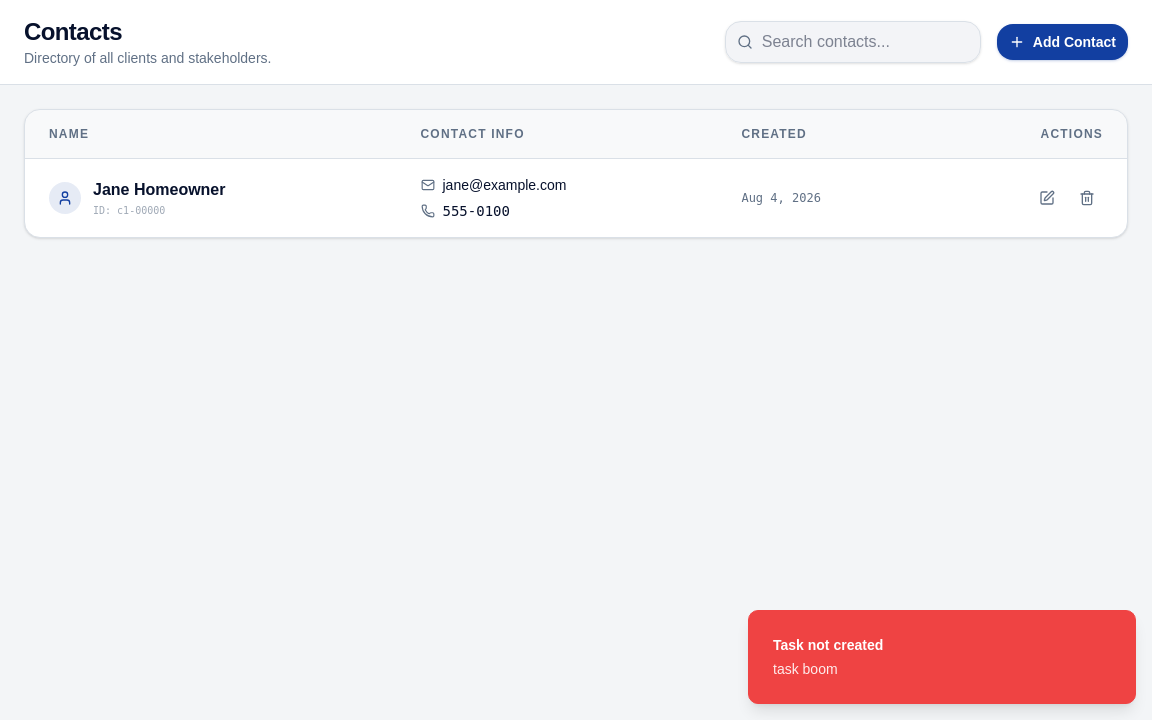
save forms never fail silently › contact form shows a destructive toast and stays open when create fails
Step 1. Click the button with test id "add-contact" → (1062, 42), box x1=997 y1=24 x2=1128 y2=60
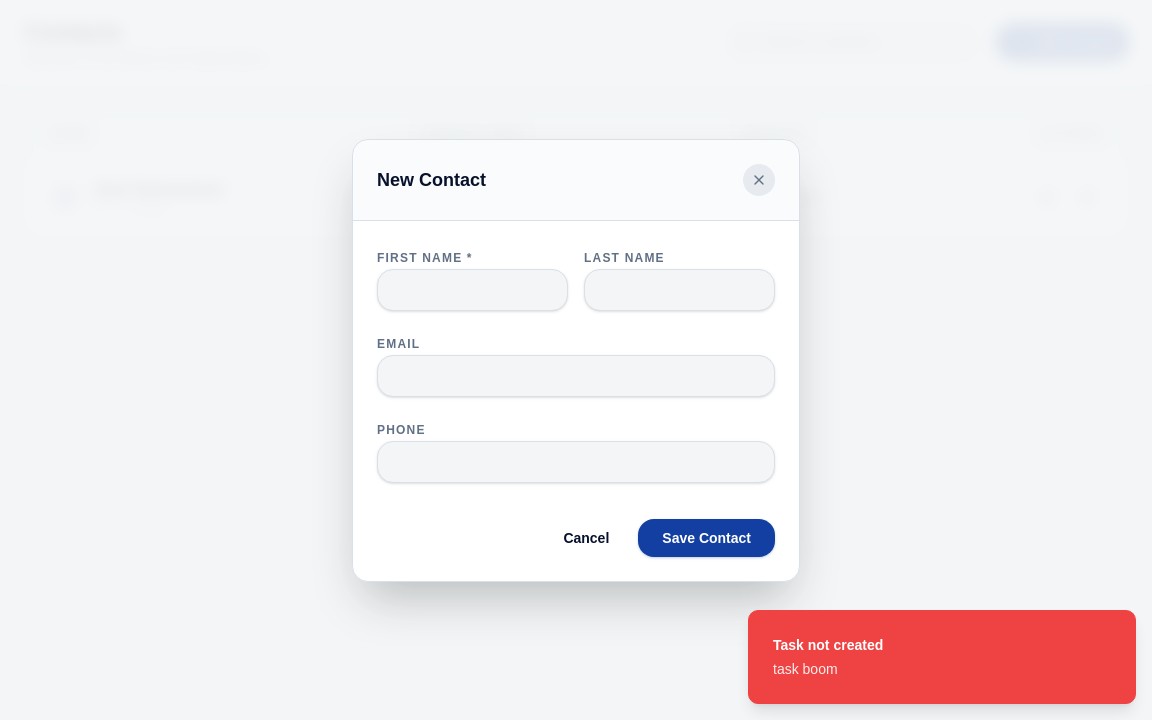
Check: the element with class "inset-0" is shown
Step 2. Type "Jane" into the field below "First Name *" → (472, 290), box x1=377 y1=268 x2=568 y2=310
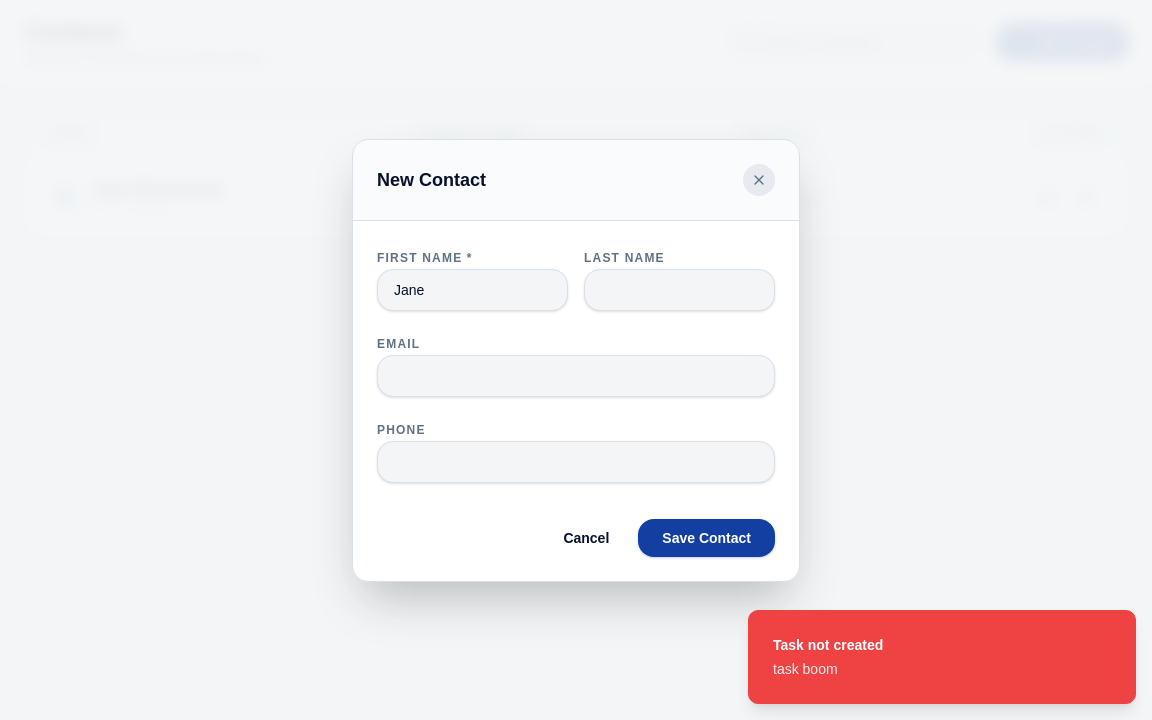
Step 3. Click the button "Save Contact" → (707, 538), box x1=638 y1=518 x2=775 y2=556
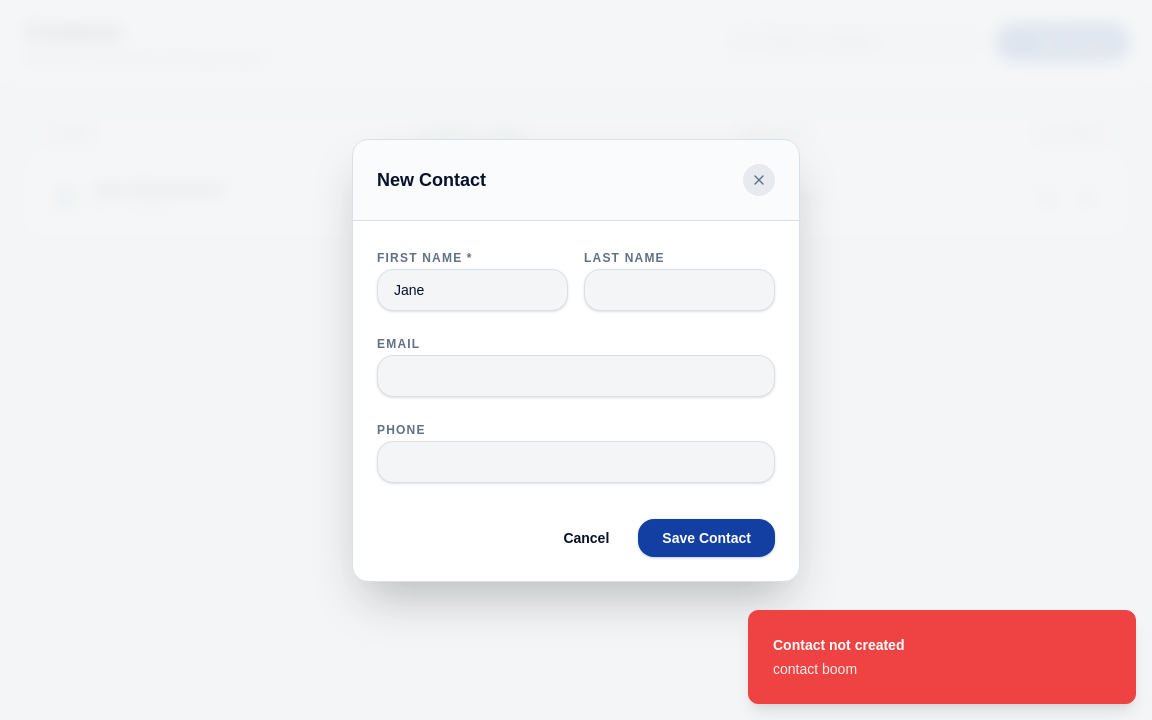
Check: the button "Save Contact" is shown, box x1=638 y1=518 x2=775 y2=556
Check: the text "Contact not created" is shown, box x1=773 y1=635 x2=904 y2=655
Check: the text "contact boom" is shown, box x1=773 y1=661 x2=857 y2=677
